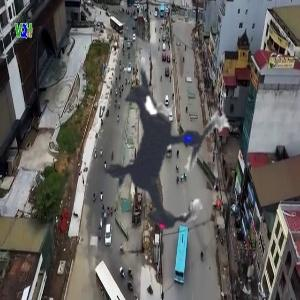drone: (37, 24, 294, 281)
